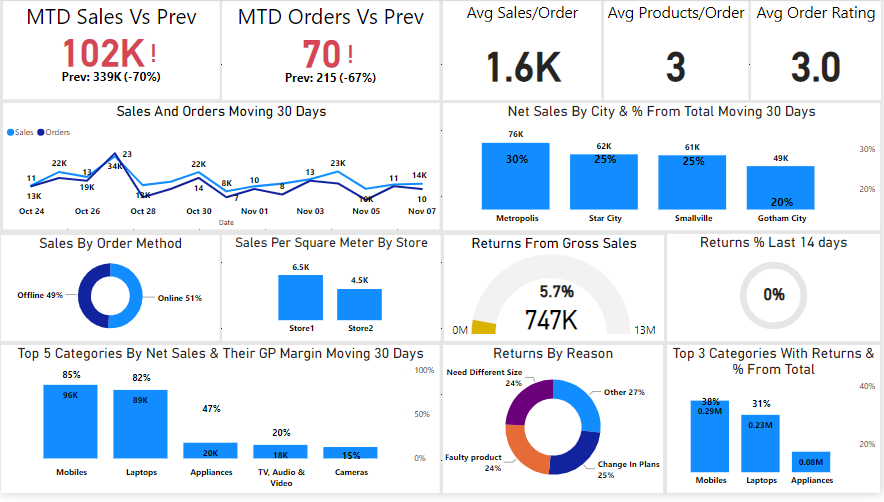

What the dashboard file says about the page in this screenshot:
{"tool":"powerbi","page":{"name":"Sales","canvas":[1280,720],"ordinal":1},"visuals":[{"type":"kpi","title":"MTD Sales Vs Prev","fields":{"Goal":["Measures Table.MTD Sales Prev"],"TrendLine":["Date_Dim.Date"],"Indicator":["Measures Table.MTD Sales"]},"box":[3.4,5.1,314.9,143.2],"z":0},{"type":"kpi","title":"MTD Orders Vs Prev","fields":{"TrendLine":["Date_Dim.Date"],"Indicator":["Measures Table.MTD Orders"],"Goal":["Measures Table.MTD Orders Prev"]},"box":[322.1,4.6,315.9,144],"z":1000},{"type":"gauge","title":"Returns From Gross Sales","fields":{"Y":["Measures Table.Amount Returned"],"MaxValue":["Measures Table.Gross Sales"]},"box":[643.9,344.2,320,153.6],"z":1000,"group":"g2"},{"type":"card","title":"Avg Sales/Order","fields":{"Values":["Measures Table.Avg Net Sales Per Order"]},"box":[643.2,4.8,230.4,144],"z":2000},{"type":"card","title":"Avg Products/Order","fields":{"Values":["Measures Table.Avg Products Per Order"]},"box":[876.8,4.8,209.6,144],"z":3000},{"type":"card","fields":{"Values":["Measures Table.Returned Sales From Gross Sales %"]},"box":[766.1,405.6,82.5,40.4],"z":3000,"group":"g2"},{"type":"lineChart","title":"Sales And Orders Moving 30 Days","fields":{"Y":["Measures Table.Sales Moving 30 Days"],"Y2":["Measures Table.Orders Moving 30 Days"],"Category":["Date_Dim.Date"]},"box":[3.1,153.3,634.8,184.3],"z":4000},{"type":"lineClusteredColumnComboChart","title":"Top 5 Categories By Net Sales & Their GP Margin Moving 30 Days","fields":{"Category":["Product_Dim.Category"],"Y":["Measures Table.Sales Moving 30 Days"],"Y2":["Measures Table.Gross Profit Margin"]},"box":[0,504,638.4,216],"z":5000},{"type":"donutChart","title":"Returns By Reason","fields":{"Y":["Measures Table.Amount Returned"],"Category":["Sales_Order_Junk_Dim.Return_Reason_Description"]},"box":[643.2,504,320,216],"z":6000},{"type":"lineClusteredColumnComboChart","title":"Net Sales By City & % From Total Moving 30 Days","fields":{"Y":["Measures Table.Sales Moving 30 Days"],"Y2":["Measures Table.Net Sales % From Total Moving 30 Days"],"Category":["Customer_Dim.City_Name"]},"box":[642.9,152.7,635.6,184.7],"z":7000},{"type":"lineClusteredColumnComboChart","title":"Top 3 Categories With Returns & % From Total","fields":{"Category":["Product_Dim.Category"],"Y":["Measures Table.Amount Returned"],"Y2":["Measures Table.Returns % From Total Returns"]},"box":[968.7,504.7,309.8,215.3],"z":8000},{"type":"group","id":"g1","title":"Group 3","box":[969.1,342.9,309.8,155.6],"z":9000},{"type":"donutChart","title":"Returns % Last 14 days","fields":{"Y":["Measures Table.1 - Returns % Last 14 Days","Measures Table.Returns % 14 days ago"]},"box":[969.1,342.9,309.8,155.6],"z":9000,"group":"g1"},{"type":"group","id":"g2","title":"Group 1","box":[643.9,344.2,320,153.6],"z":10000},{"type":"card","fields":{"Values":["Measures Table.Returns % 14 days ago"]},"box":[1083.8,410.2,82.3,41.1],"z":10000,"group":"g1"},{"type":"donutChart","title":"Sales By Order Method","fields":{"Category":["Sales_Order_Junk_Dim.Order_Method_Description"],"Y":["Measures Table.Net Sales"]},"box":[0,344,318.4,153.6],"z":11000},{"type":"clusteredColumnChart","title":"Sales Per Square Meter By Store","fields":{"Category":["Branch_Dim.Name"],"Y":["Sum(Sales By Branch Dummy Table.Sales / Meter)"]},"box":[321.6,344,318.4,153.6],"z":12000},{"type":"card","title":"Avg Order Rating","fields":{"Values":["Measures Table.Avg Order Rating"]},"box":[1091.2,4.8,188.8,144],"z":13000}]}

Visuals, with their boxes in screenshot pixels (x1, y1, x2, y2), scaled from the page's 1280x720 canvas onto the 884x502 screenshot:
"MTD Sales Vs Prev" kpi: 2, 4, 220, 103
"MTD Orders Vs Prev" kpi: 222, 3, 441, 104
"Returns From Gross Sales" gauge: 445, 240, 666, 347
"Avg Sales/Order" card: 444, 3, 603, 104
"Avg Products/Order" card: 606, 3, 750, 104
card - Measures Table.Returned Sales From Gross Sales %: 529, 283, 586, 311
"Sales And Orders Moving 30 Days" lineChart: 2, 107, 441, 235
"Top 5 Categories By Net Sales & Their GP Margin Moving 30 Days" lineClusteredColumnComboChart: 0, 351, 441, 501
"Returns By Reason" donutChart: 444, 351, 665, 501
"Net Sales By City & % From Total Moving 30 Days" lineClusteredColumnComboChart: 444, 106, 883, 235
"Top 3 Categories With Returns & % From Total" lineClusteredColumnComboChart: 669, 352, 883, 501
"Group 3" group: 669, 239, 883, 348
"Returns % Last 14 days" donutChart: 669, 239, 883, 348
"Group 1" group: 445, 240, 666, 347
card - Measures Table.Returns % 14 days ago: 748, 286, 805, 315
"Sales By Order Method" donutChart: 0, 240, 220, 347
"Sales Per Square Meter By Store" clusteredColumnChart: 222, 240, 442, 347
"Avg Order Rating" card: 754, 3, 883, 104
